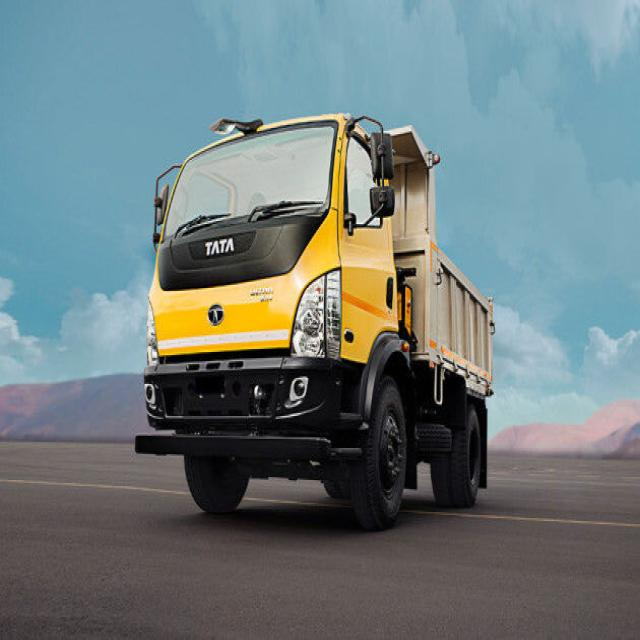dump_truck: (106, 70, 533, 541)
